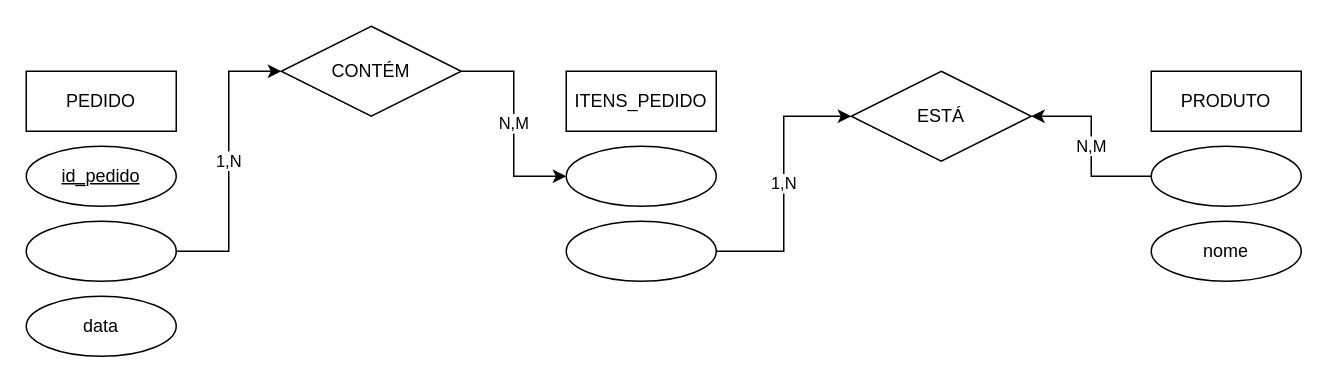
Some shapes in this 1328 by 383 pixel diagram are drawn without their labels. Here are the shapes that lost their labels. From the top down, the centre of each, then its label:
At point 640,175: "id_itens_pedido".
At point 1225,175: "id_produto".
At point 100,250: "fk_itens_pedido".
At point 640,250: "fk_produto".
